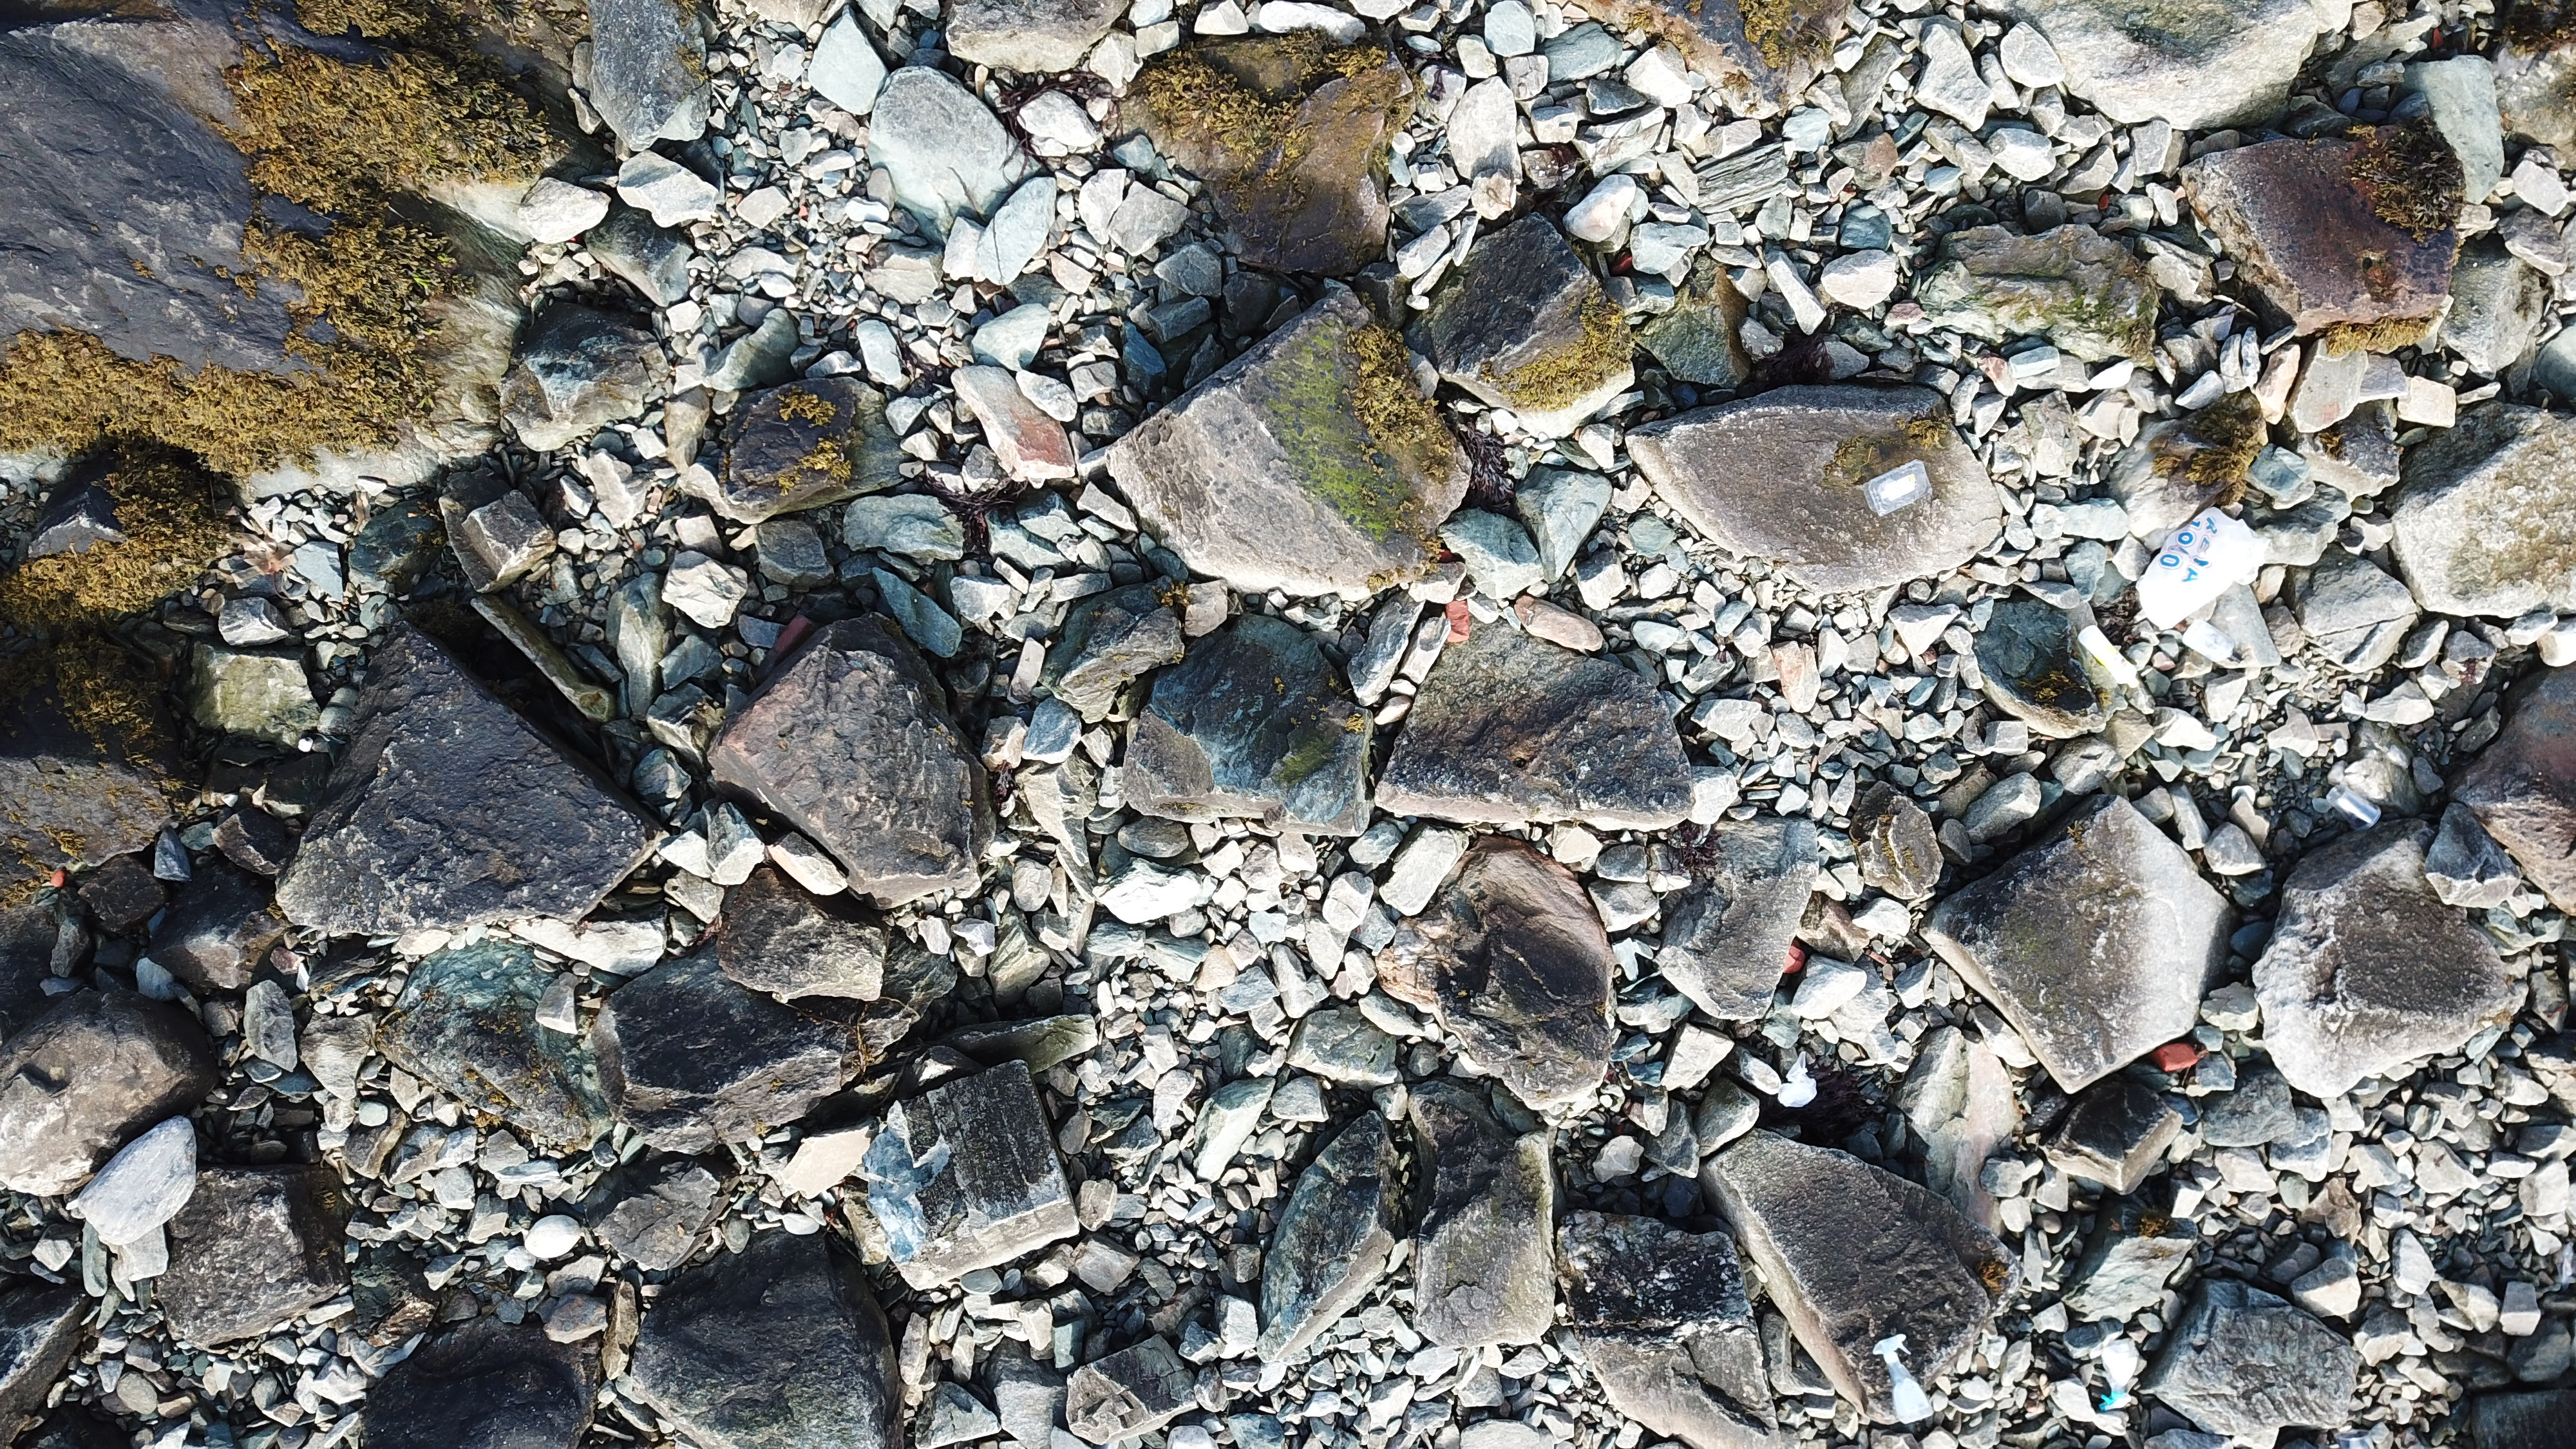Plastic: (2135, 506, 2272, 626), (1875, 1332, 1934, 1422), (2079, 623, 2144, 688), (1867, 460, 1930, 513), (2176, 617, 2247, 663), (2100, 1336, 2137, 1412), (1773, 1049, 1819, 1109), (2328, 784, 2383, 828)
